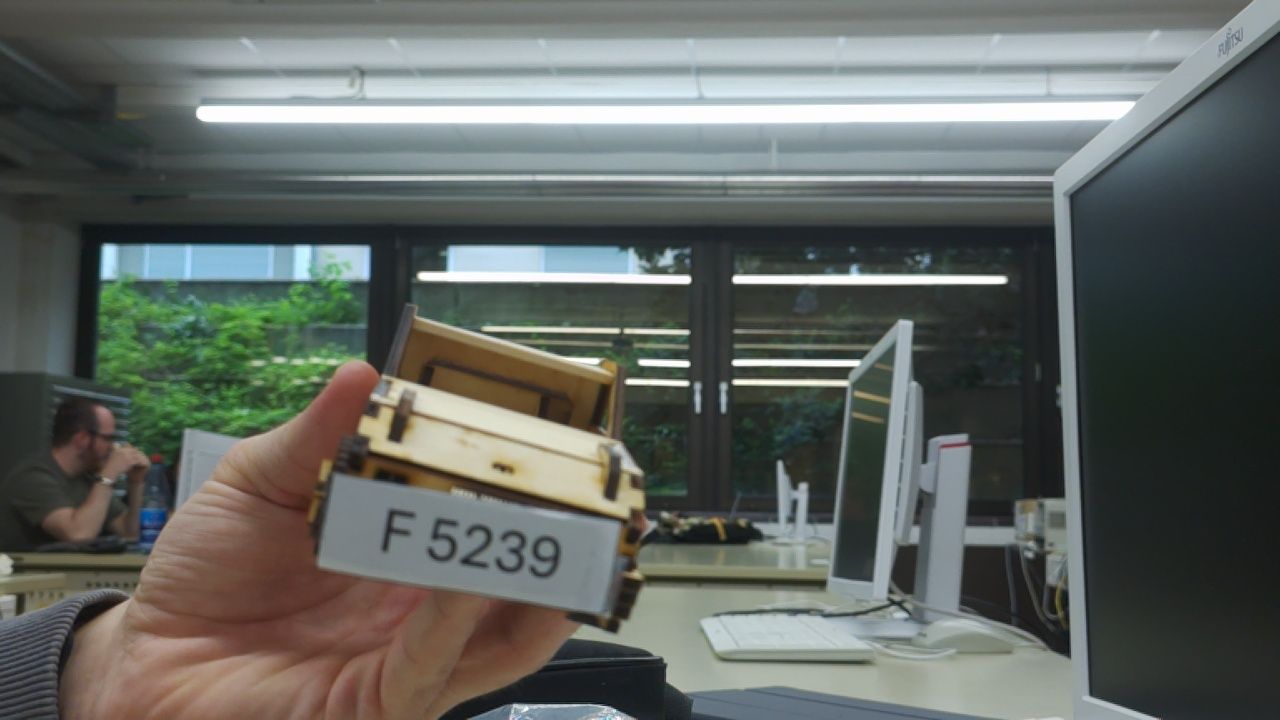license_plate: (308, 465, 626, 624)
